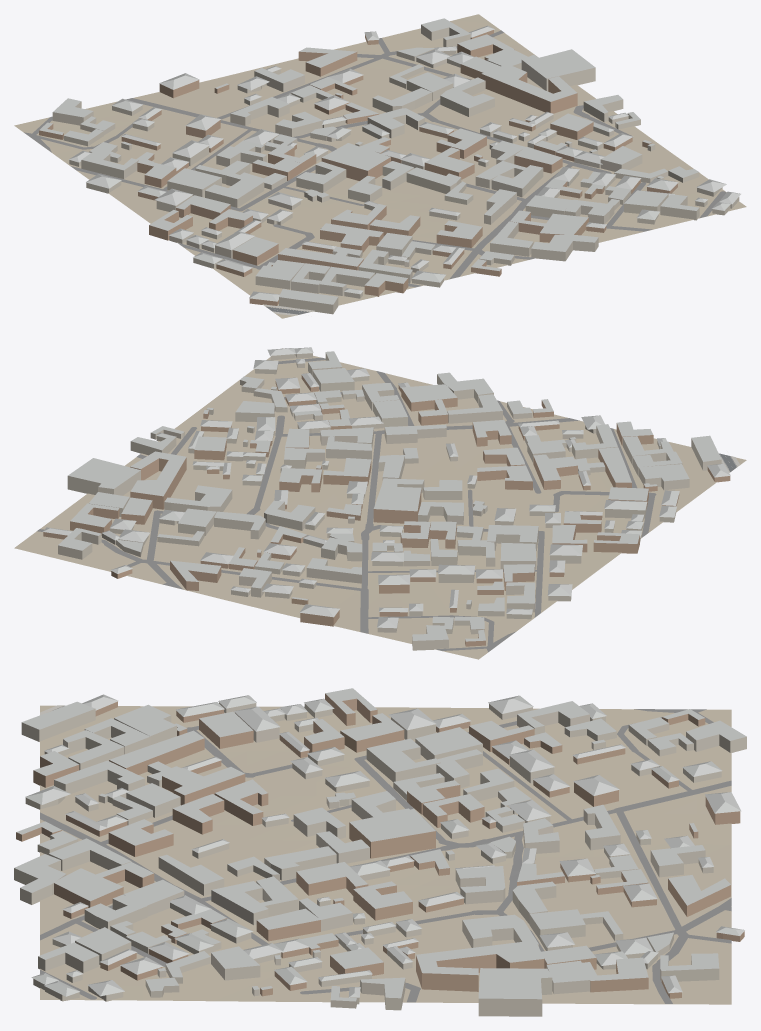
The model's file is bolak_-11_5.glb.
The picture shows the model from 3 angles, top to bottom: view 1: azimuth 30°, elevation 25°; view 2: azimuth 150°, elevation 25°; view 3: azimuth 270°, elevation 25°; orthographic projection. The views are drawn at different scales.
Visible parts, largest first — view 1: Tom_Shifer, Yer_Tuproq-col, Devor_Suvoq-col, Devor_Gisht-col, Yol_Mahalla-col; view 2: Tom_Shifer, Yer_Tuproq-col, Devor_Suvoq-col, Devor_Gisht-col, Yol_Mahalla-col; view 3: Tom_Shifer, Yer_Tuproq-col, Devor_Suvoq-col, Devor_Gisht-col, Yol_Mahalla-col.
Part boxes in pixels (left/top/right/bottom): Tom_Shifer: left=39, top=18, right=740, bottom=304; Yer_Tuproq-col: left=14, top=14, right=746, bottom=318; Devor_Suvoq-col: left=52, top=24, right=739, bottom=314; Devor_Gisht-col: left=39, top=30, right=677, bottom=305; Yol_Mahalla-col: left=24, top=30, right=726, bottom=287; Tom_Shifer: left=43, top=347, right=730, bottom=641; Yer_Tuproq-col: left=14, top=348, right=746, bottom=659; Devor_Suvoq-col: left=58, top=352, right=721, bottom=650; Devor_Gisht-col: left=43, top=375, right=730, bottom=646; Yol_Mahalla-col: left=37, top=357, right=656, bottom=652; Tom_Shifer: left=14, top=688, right=746, bottom=1001; Yer_Tuproq-col: left=40, top=705, right=731, bottom=1004; Devor_Suvoq-col: left=14, top=702, right=746, bottom=1016; Devor_Gisht-col: left=16, top=693, right=744, bottom=998; Yol_Mahalla-col: left=40, top=706, right=731, bottom=1003.
Size of what is drawn, in the model's own units: 427 by 14.43 by 424.
